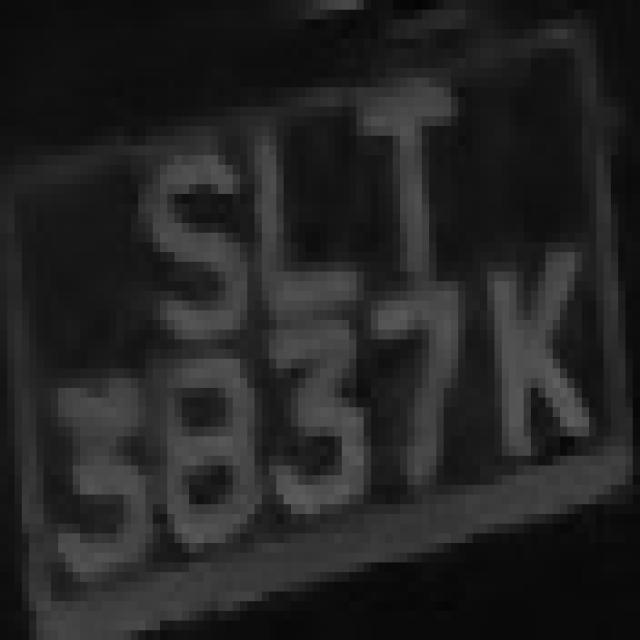3: (29, 349, 153, 621), (254, 320, 386, 524)
7: (378, 291, 487, 543)
8: (138, 368, 269, 552)
K: (473, 233, 596, 504)
L: (233, 77, 371, 300)
S: (102, 136, 254, 359)
T: (342, 88, 502, 272)
